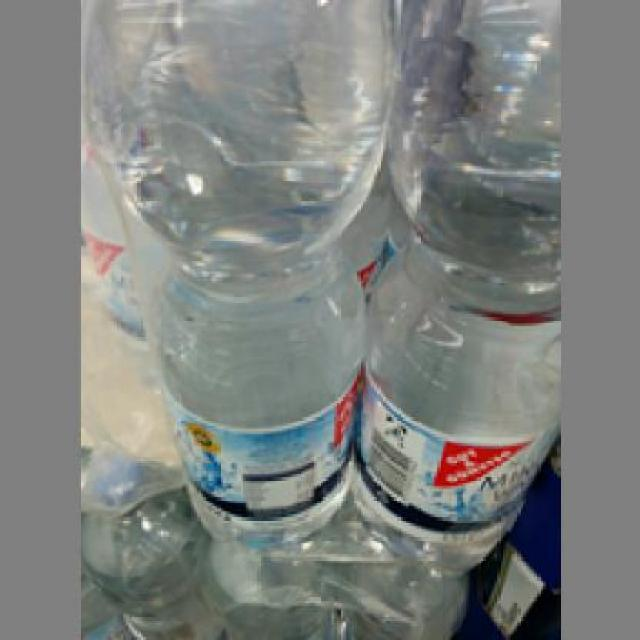Water: (86, 0, 392, 549), (348, 0, 554, 563)
